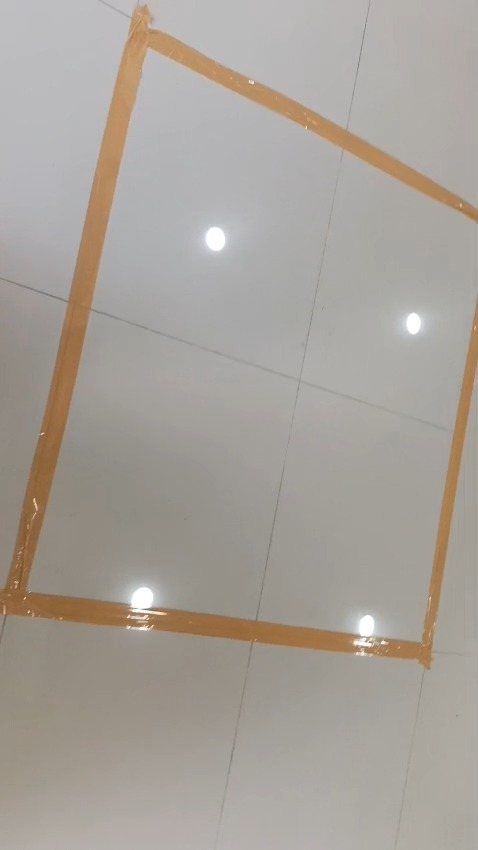floor marking: (0, 6, 477, 667)
